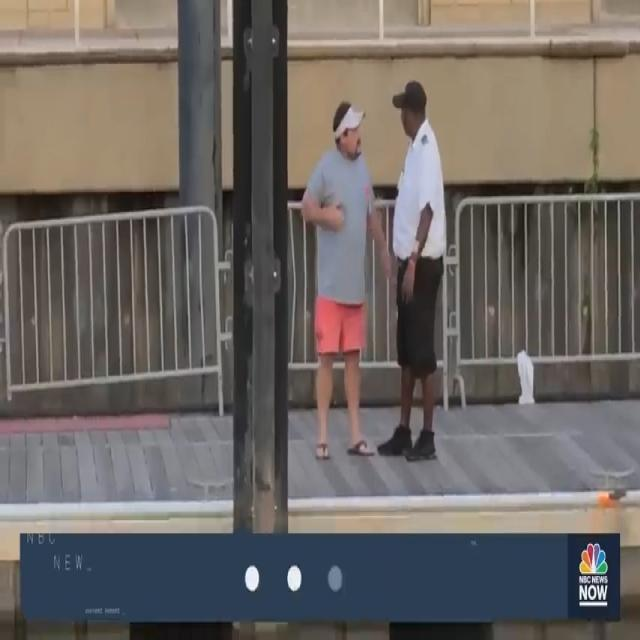non-fight: (299, 73, 448, 465)
